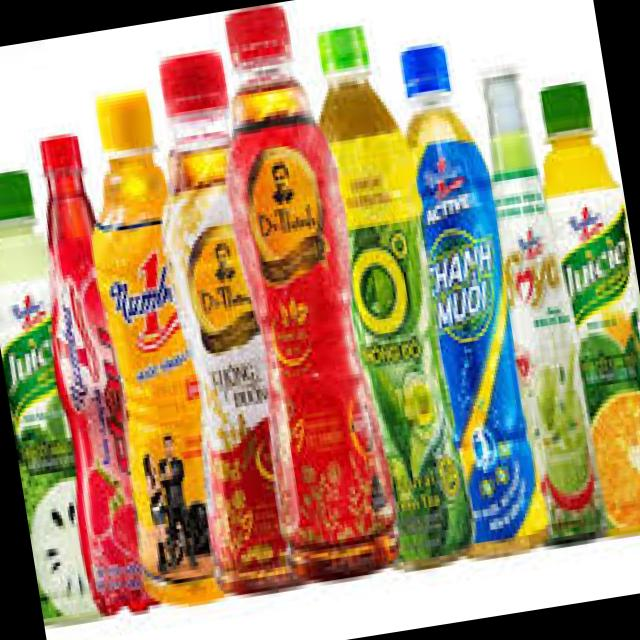tra xanh khong do: (298, 15, 486, 580)
